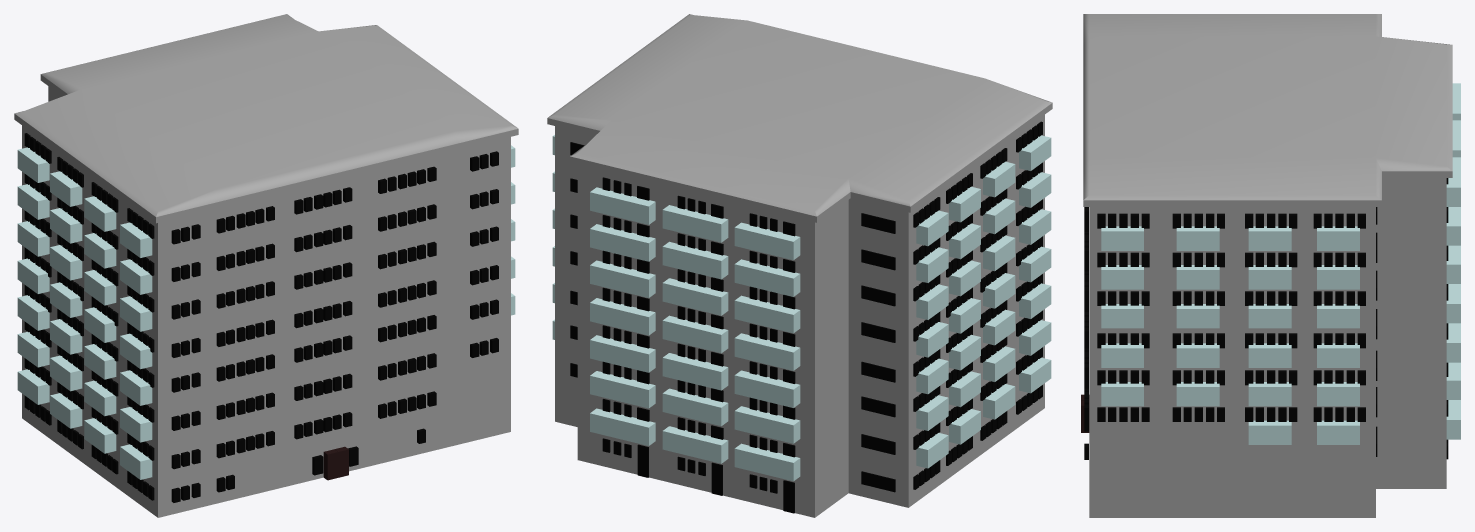
File: appartmentOne.fbx
3 renders of one model, left to right at view 1: azimuth 30°, elevation 25°; view 2: azimuth 150°, elevation 25°; view 3: azimuth 270°, elevation 25°, orthographic. The views are drawn at different scales.
Parts seen in each view (by area): view 1: appartmentOne; view 2: appartmentOne; view 3: appartmentOne.
Part boxes in pixels (<box>): appartmentOne: <box>14,14,518,517</box>; appartmentOne: <box>547,14,1052,517</box>; appartmentOne: <box>1081,14,1460,517</box>.
Size of the model in its own units: 31.87 by 25.56 by 26.55.
